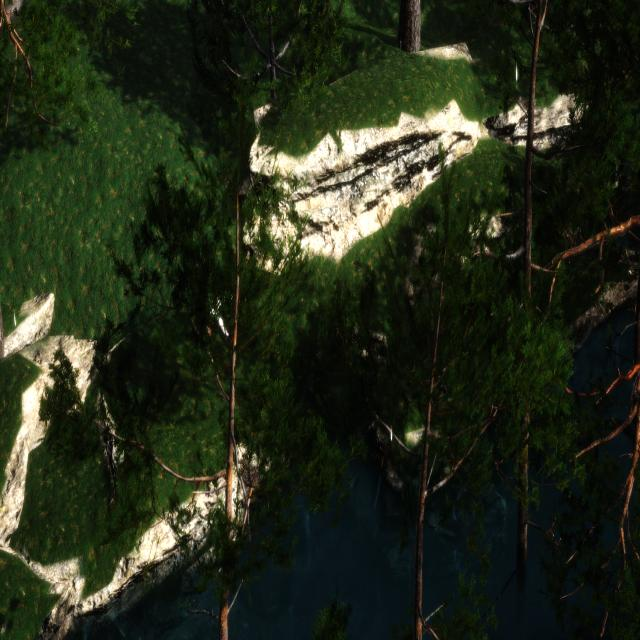Human: (197, 292, 236, 340)
